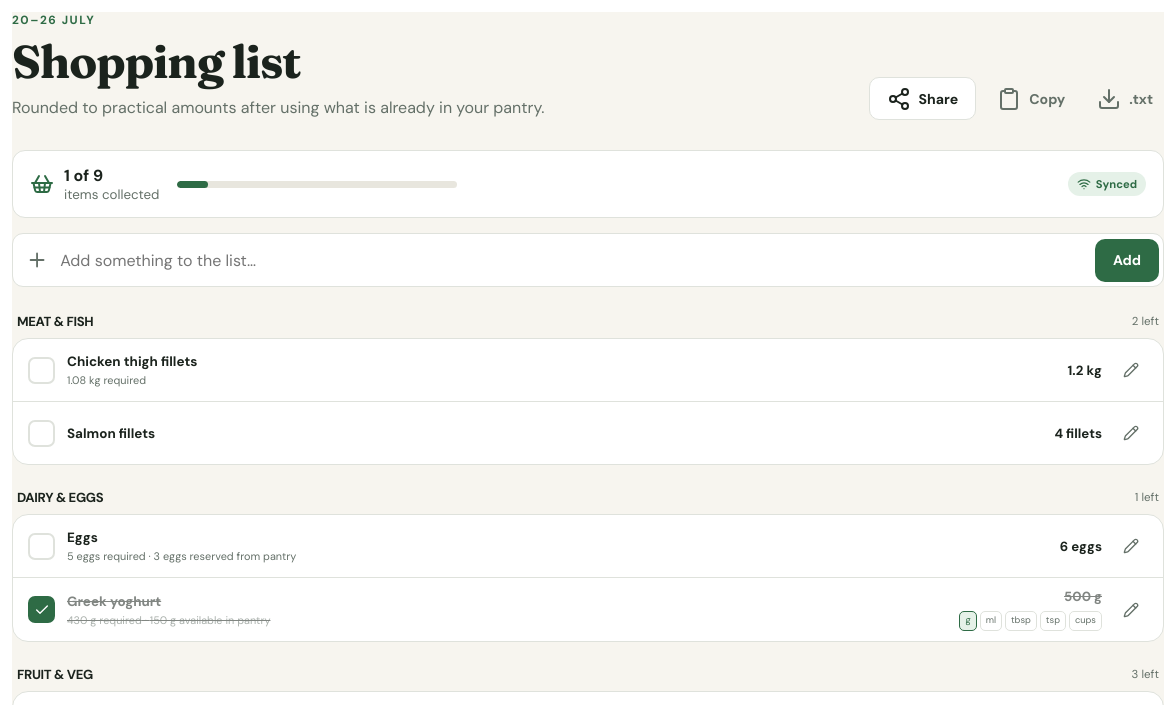
Test: ShoppingPage controls › lets the shopper choose the most useful measurement unit
The width and height of the screenshot is (1176, 705).
Step 1. Click the button "ml" → (991, 621), box [980, 611, 1002, 631]
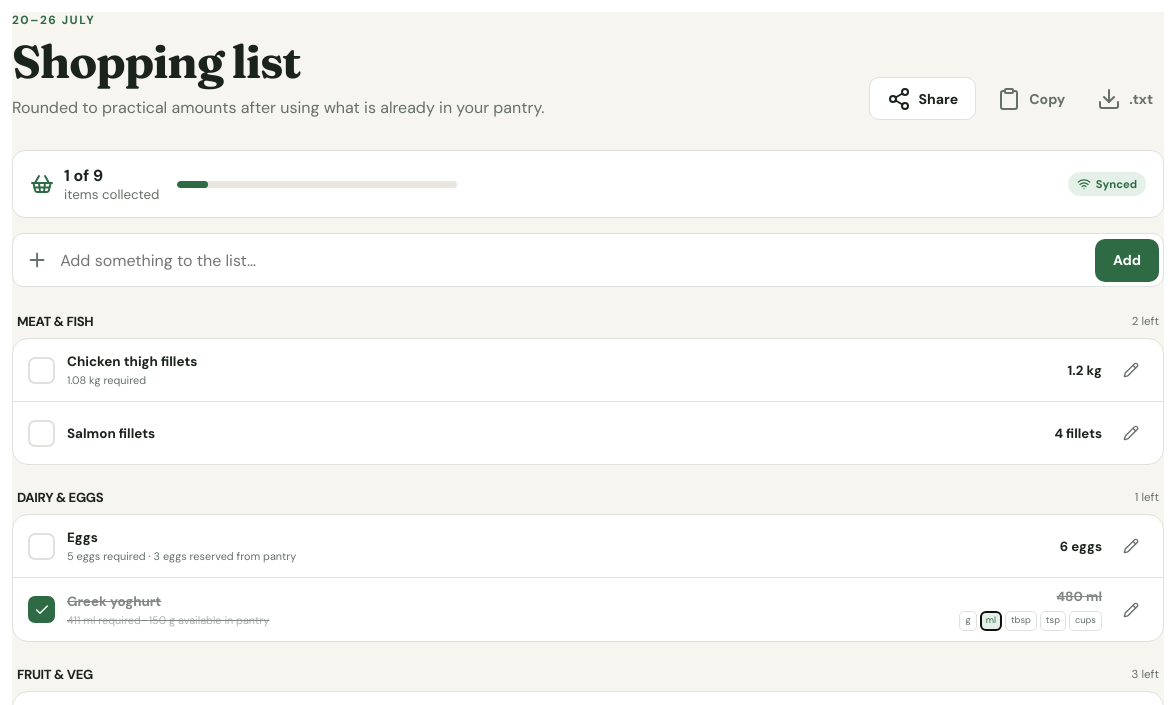
Now the text "480 ml" is shown, box [1056, 588, 1102, 605]
